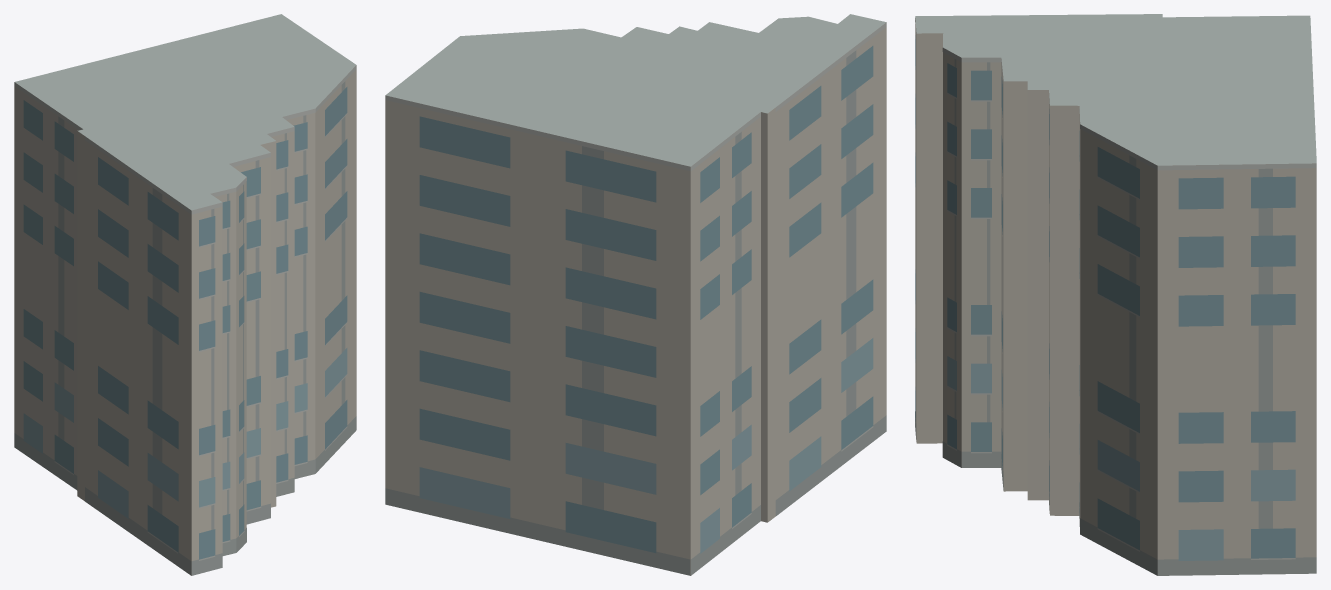
Rendered from survey-upis-32577729.glb.
The picture shows the model from 3 angles, left to right: view 1: azimuth 30°, elevation 25°; view 2: azimuth 150°, elevation 25°; view 3: azimuth 270°, elevation 25°; orthographic projection. The views are drawn at different scales.
Visible parts, largest first — view 1: survey-upis-32577729.tmp; view 2: survey-upis-32577729.tmp; view 3: survey-upis-32577729.tmp.
Boxes of the visible parts, bbox=[...] form: survey-upis-32577729.tmp: bbox=[14, 14, 356, 575]; survey-upis-32577729.tmp: bbox=[385, 14, 886, 575]; survey-upis-32577729.tmp: bbox=[915, 14, 1316, 575].
Bounding box in the file's own units: 16.94 × 21.35 × 18.96.
